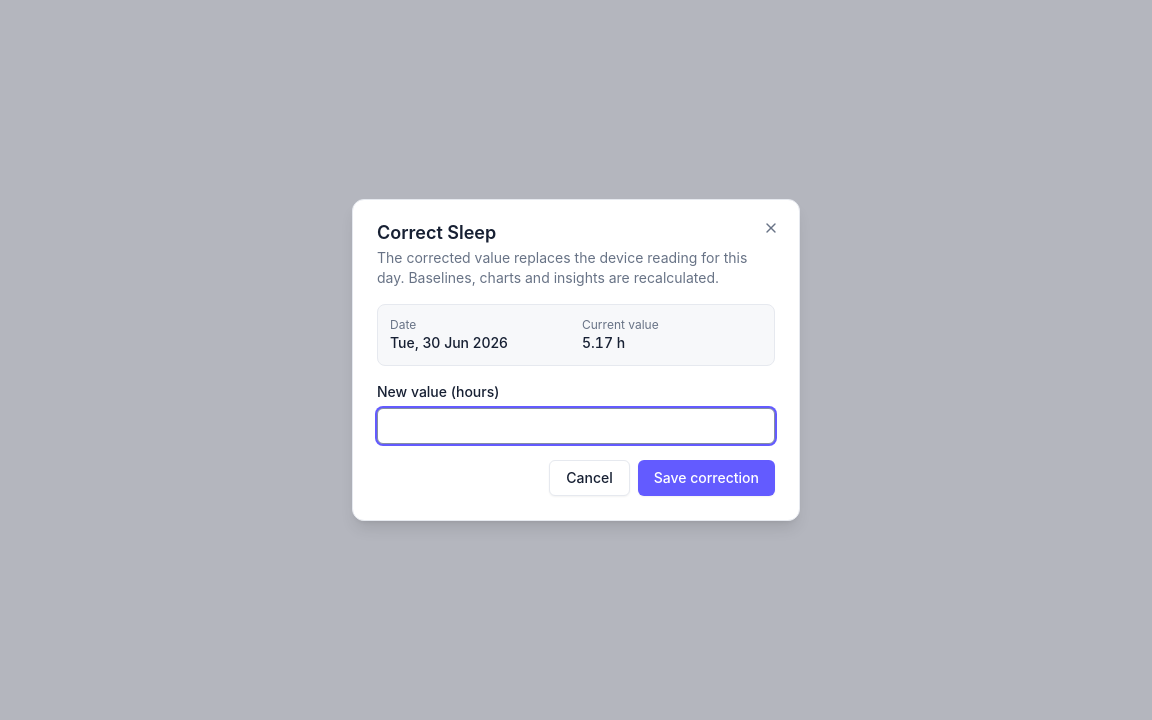
it: CorrectionDialog › correction errors stay in the dialog
Type "30" into the field labelled "New value (hours)" at (576, 426), box [377,408,775,444]
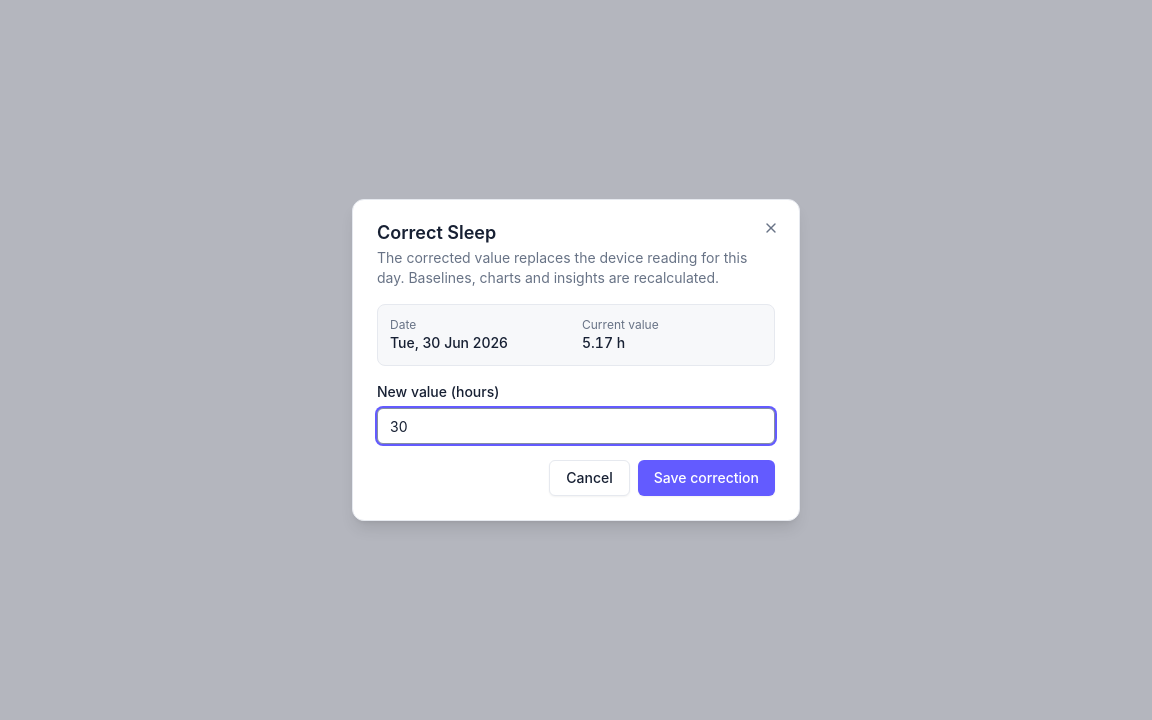
Click the button "Save correction" at (706, 478), box [638,460,775,496]
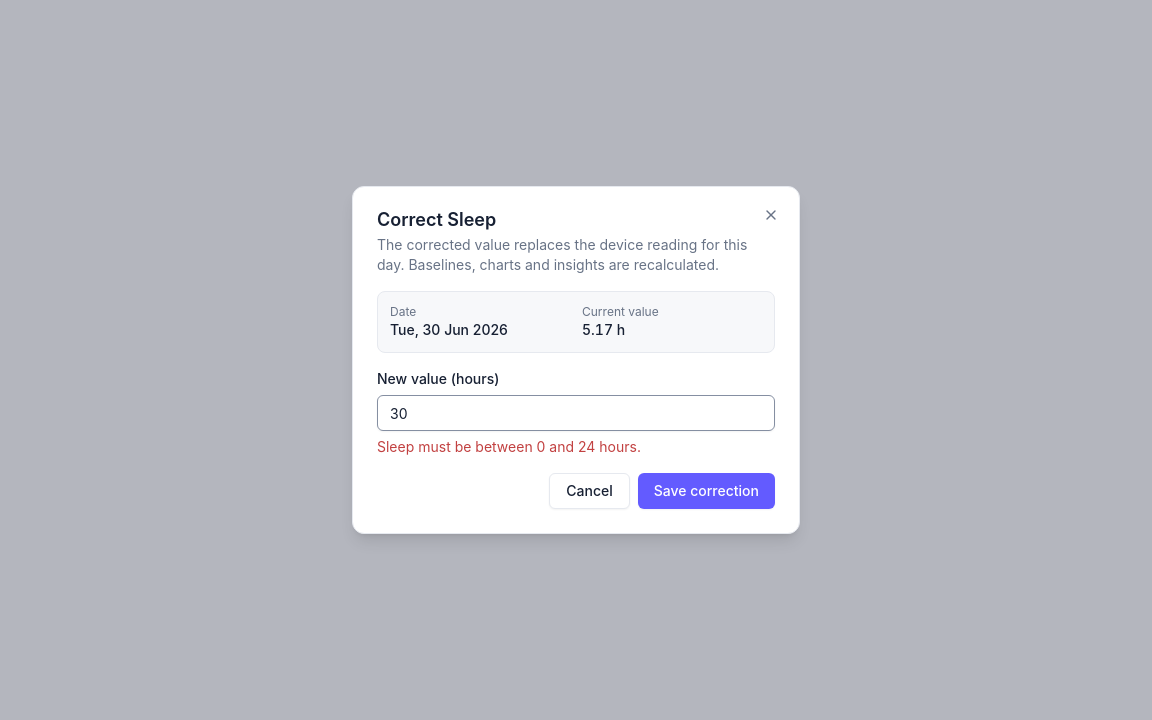
expect the dialog "Correct Sleep" is shown: met, box [352,186,800,534]
expect the message reads "Sleep must be between 0 and 24 hours.": met, box [377,438,641,455]
